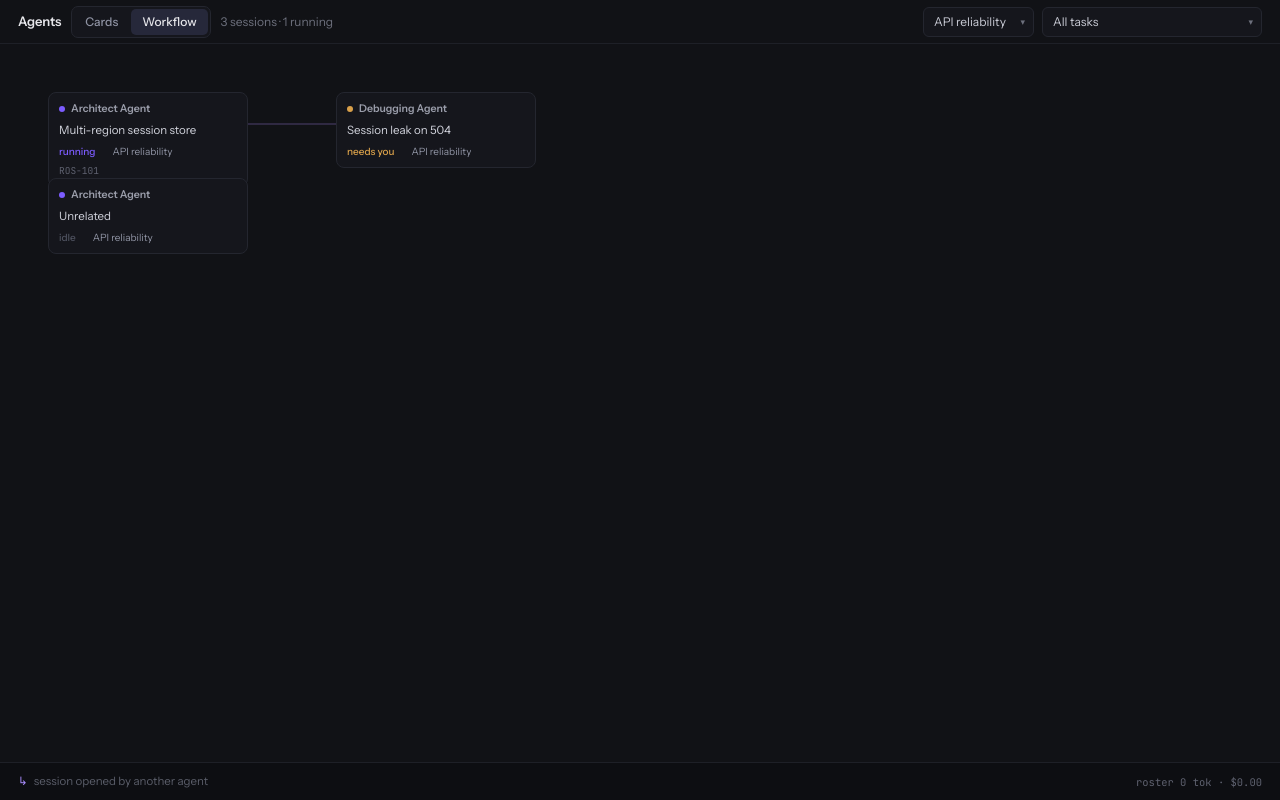
the task filter › picking a task narrows the graph to the sessions its work reached
Select "ROS-101 · Fix the pool leak" in the dropdown named "Filter by task" at x=1152, y=22, box [1042,6,1262,36]
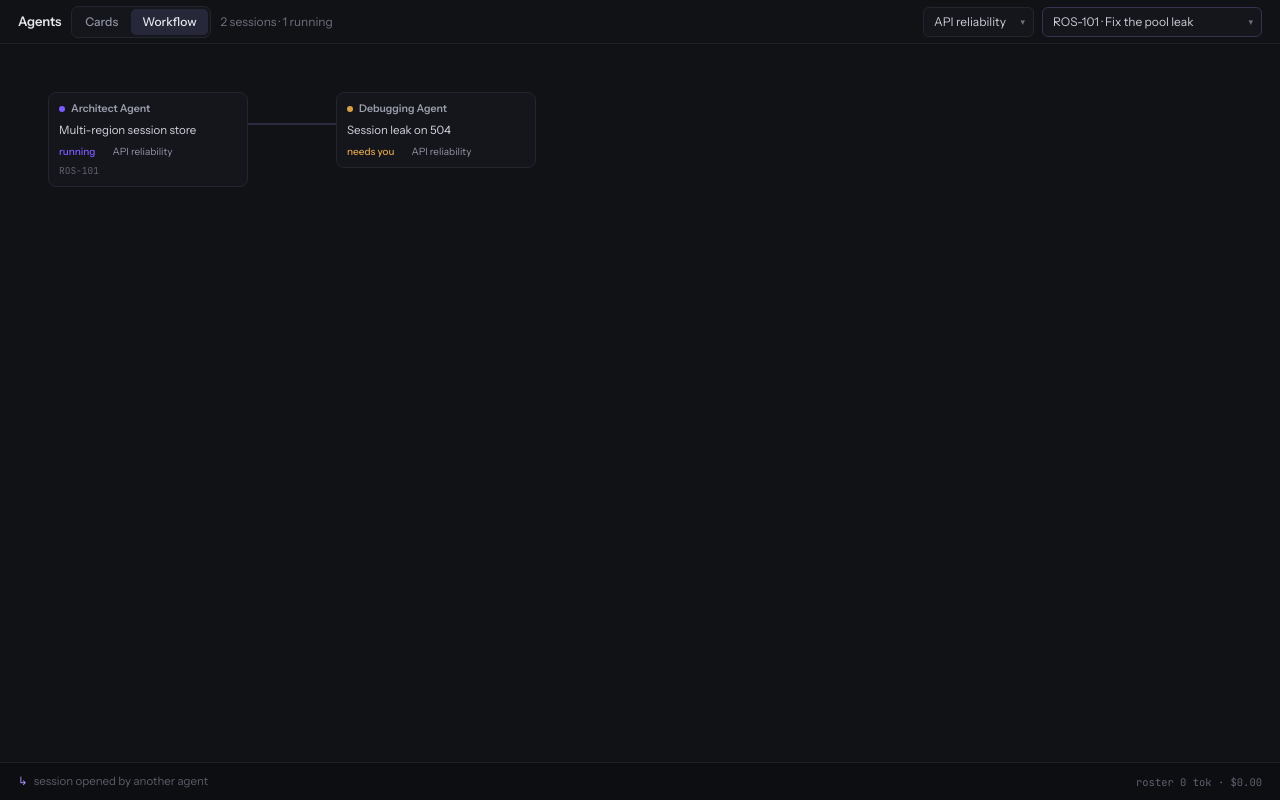
expect the text "Session leak on 504" is shown: met, box [347,122,451,139]
expect the button "Unrelated" is gone: met
